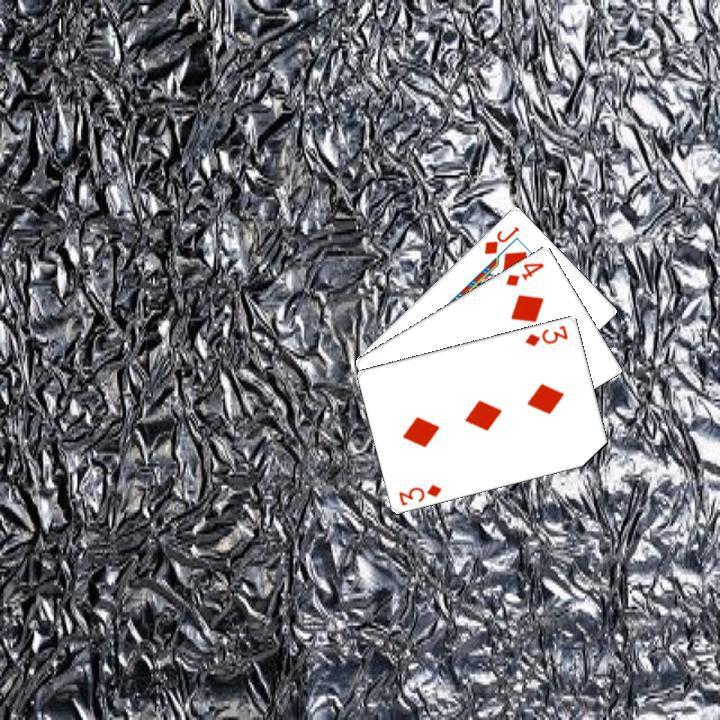3: (521, 320, 570, 348), (394, 480, 444, 507)
4: (501, 258, 546, 288)
J: (480, 221, 521, 256)
